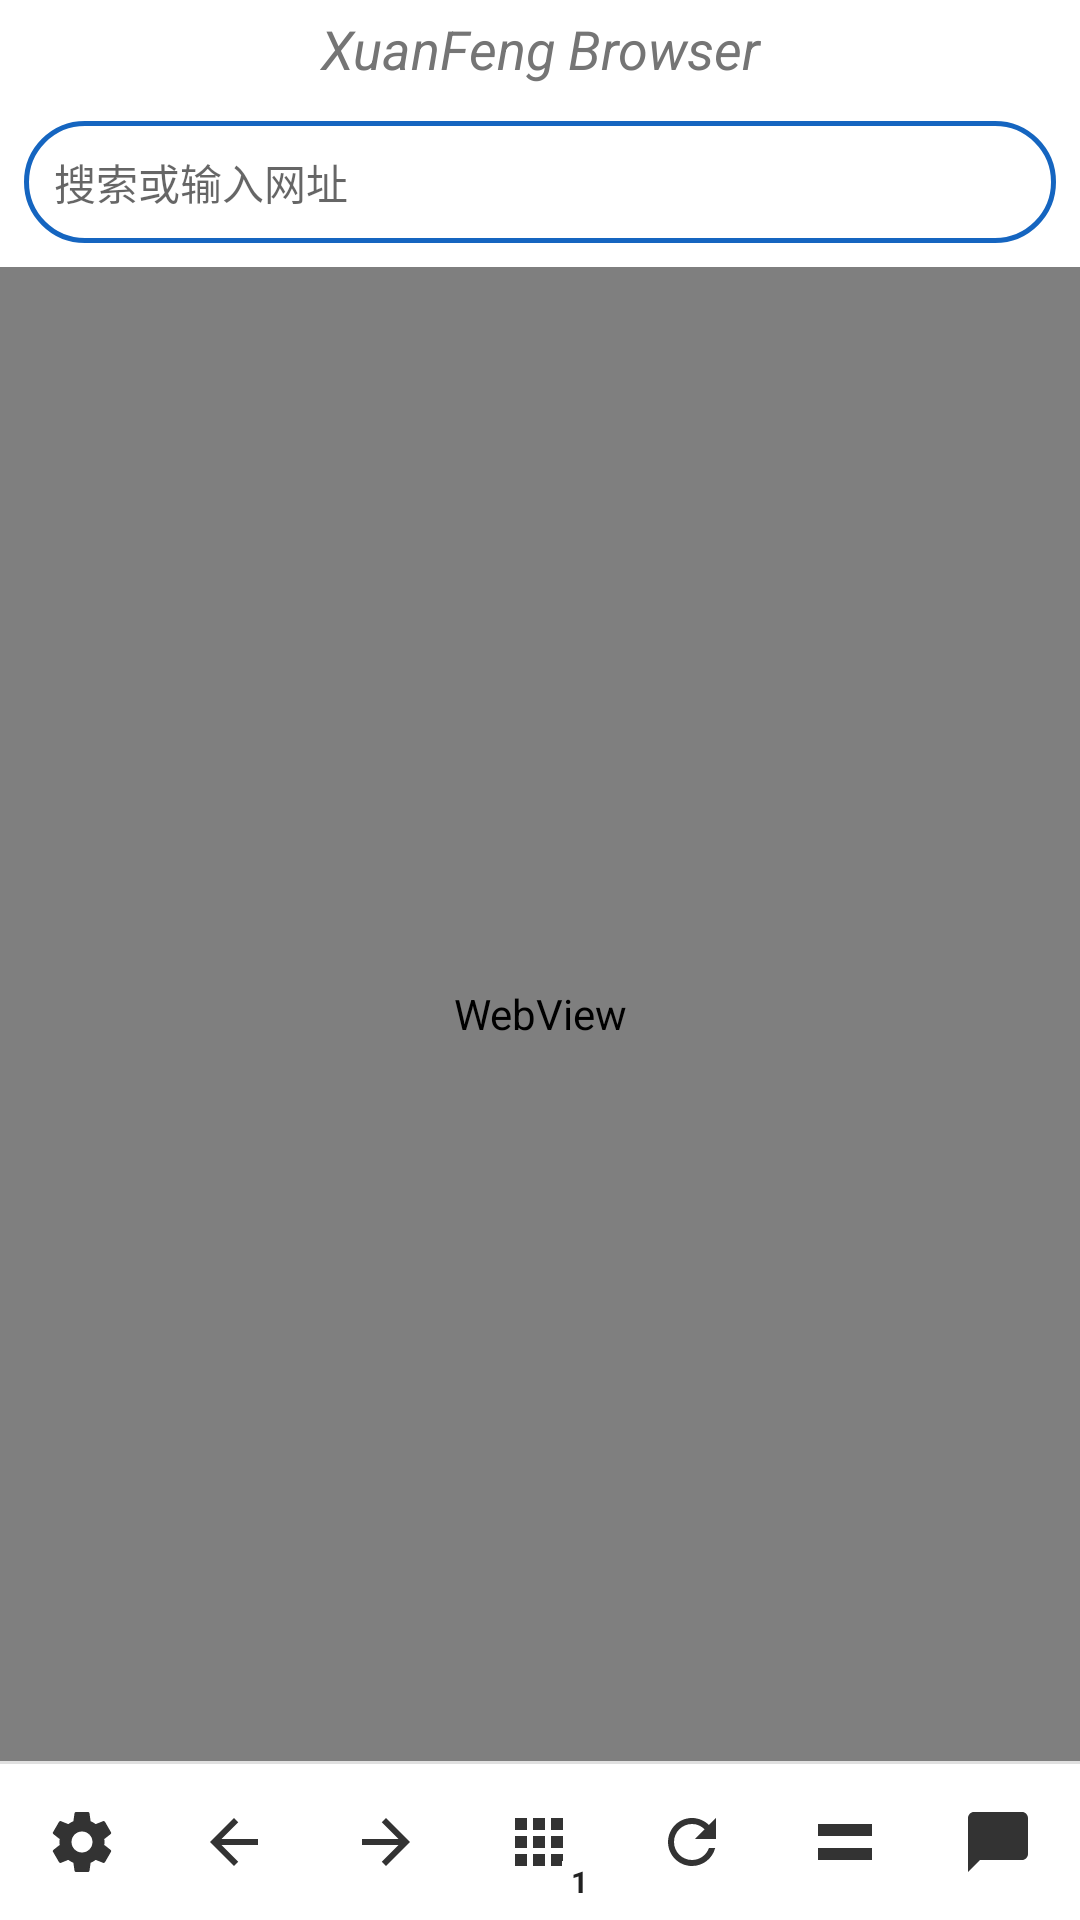

Icon bounding boxes for this 1080px×1920px phone screenshot, format box(x1, y1, x2, y2):
back: box(210, 1818, 258, 1866)
forward: box(362, 1818, 410, 1866)
refresh: box(668, 1818, 716, 1866)
settings: box(52, 1812, 111, 1872)
tabs: box(515, 1818, 583, 1893)
